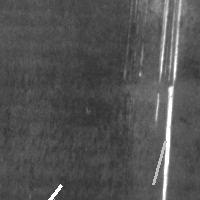scratches: (154, 1, 183, 198), (148, 136, 170, 189), (10, 180, 66, 200), (0, 195, 59, 200)
